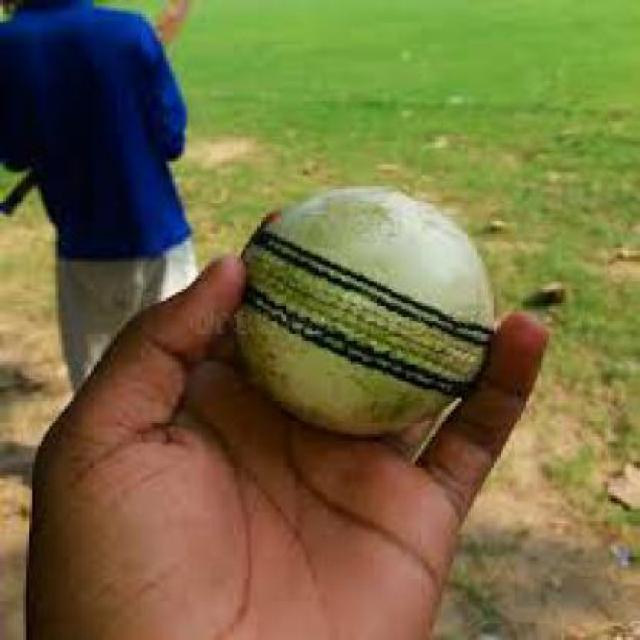ball: (225, 140, 523, 460)
